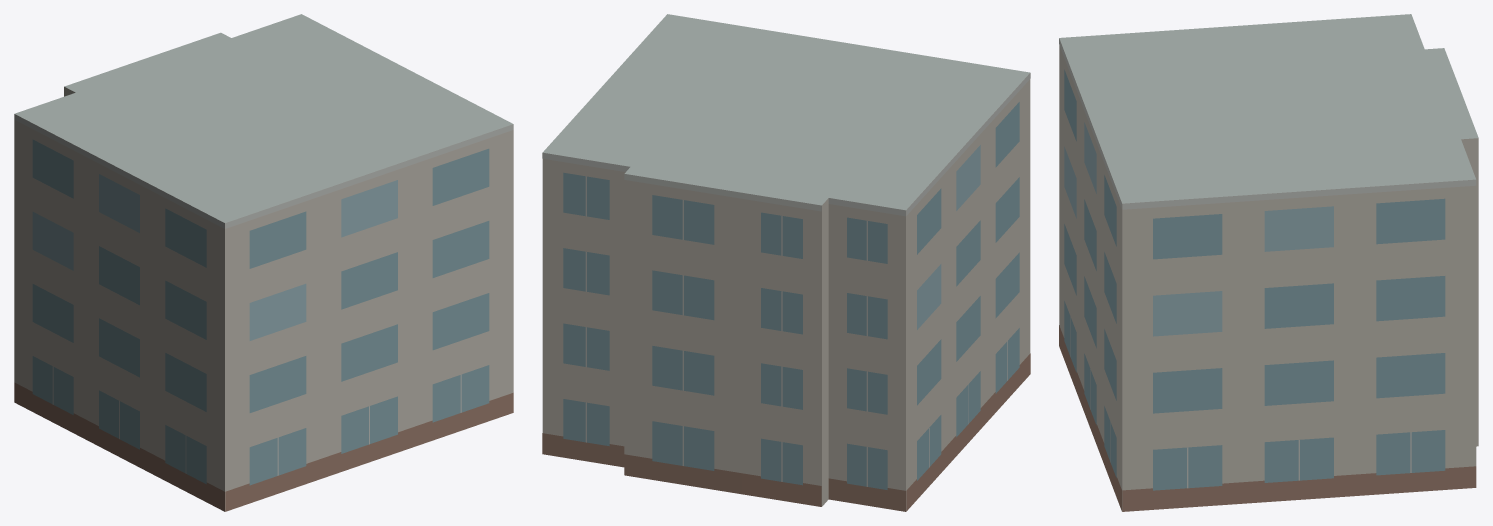
The model's file is residential-e3aa00d6-9ad7-4f56-8a1b-8571da479b0f.glb.
3 views of the same model, side by side, from view 1: azimuth 30°, elevation 25°; view 2: azimuth 150°, elevation 25°; view 3: azimuth 270°, elevation 25° (orthographic). The views are drawn at different scales.
Visible parts, largest first — view 1: residential-e3aa00d6-9ad7-4f56-8a1b-8571da479b0f.tmp; view 2: residential-e3aa00d6-9ad7-4f56-8a1b-8571da479b0f.tmp; view 3: residential-e3aa00d6-9ad7-4f56-8a1b-8571da479b0f.tmp.
Boxes of the visible parts, x1,y1,x2,y2 form: residential-e3aa00d6-9ad7-4f56-8a1b-8571da479b0f.tmp: [14, 14, 513, 511]; residential-e3aa00d6-9ad7-4f56-8a1b-8571da479b0f.tmp: [542, 14, 1030, 511]; residential-e3aa00d6-9ad7-4f56-8a1b-8571da479b0f.tmp: [1059, 14, 1478, 511].
Size of the model in its own units: 16.11 by 12.2 by 15.06.
